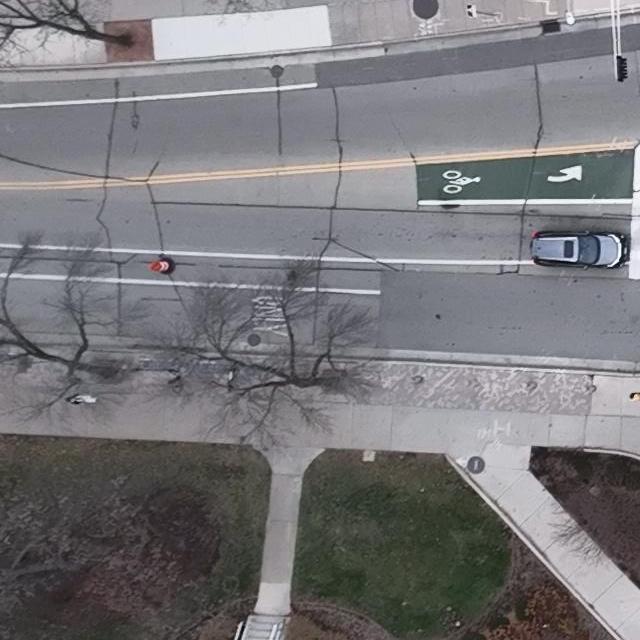car: (531, 228, 632, 271)
